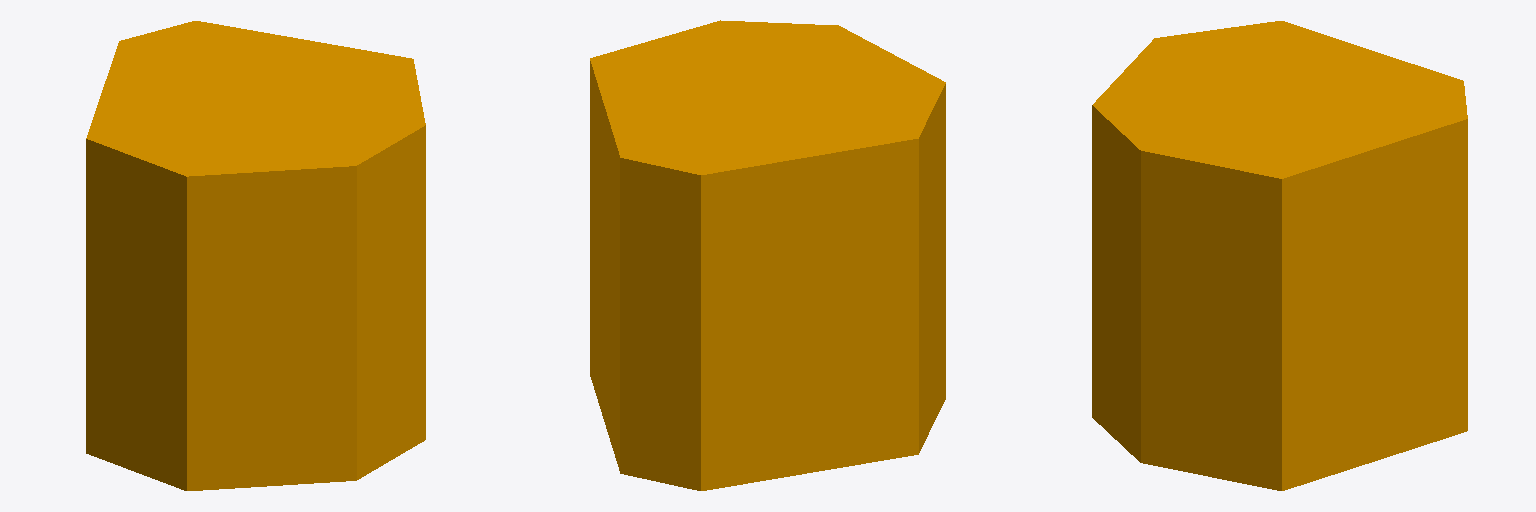
robot.urdf — object:
<?xml version="1.0"?>
<robot name="object">
  <link name="object">
    <visual>
      <origin xyz="0 0 0"/>
      <geometry>
        <mesh filename="meshes/generated/col_087.obj" scale="0.03 0.03 0.03"/>
      </geometry>
    </visual>
    <collision>
      <origin xyz="0 0 0"/>
      <geometry>
        <mesh filename="meshes/generated/col_087.obj" scale="0.03 0.03 0.03"/>
      </geometry>
    </collision>
    <inertial>
      <density value="1000.0"/>
    </inertial>
  </link>
</robot>

--- Render facts (derived) ---
Views: 3 orthographic renders of the robot side by side, from view 1: azimuth 30°, elevation 25°; view 2: azimuth 150°, elevation 25°; view 3: azimuth 270°, elevation 25°.
Model object with 1 links and 0 joints (none), rooted at object, posed all joints at 0.
Links seen in each view (by area): view 1: object; view 2: object; view 3: object.
Link boxes in pixels (bbox=[...]): object: bbox=[86, 21, 425, 490]; object: bbox=[590, 20, 945, 490]; object: bbox=[1092, 21, 1467, 490].
Bounding box of the posed robot: 0.0653 × 0.0654 × 0.06 m (x, y, z).
Meshes: 1 distinct files referenced, 1 mesh visuals loaded (1 OBJ).
